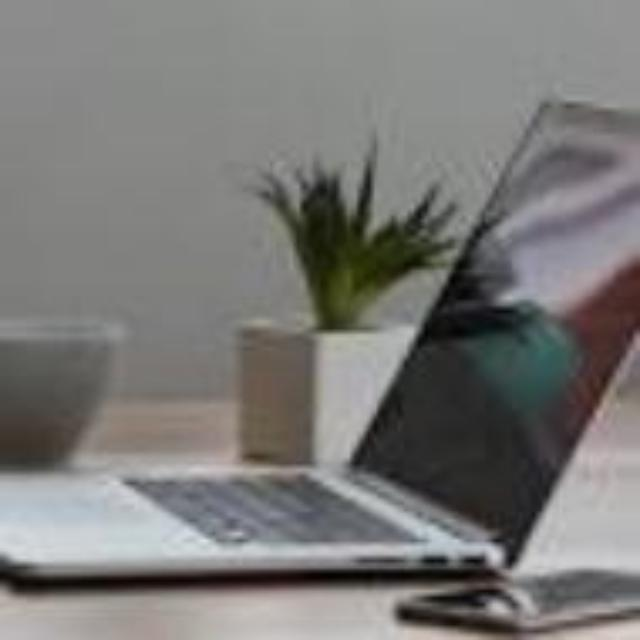Phone: (384, 560, 640, 640)
